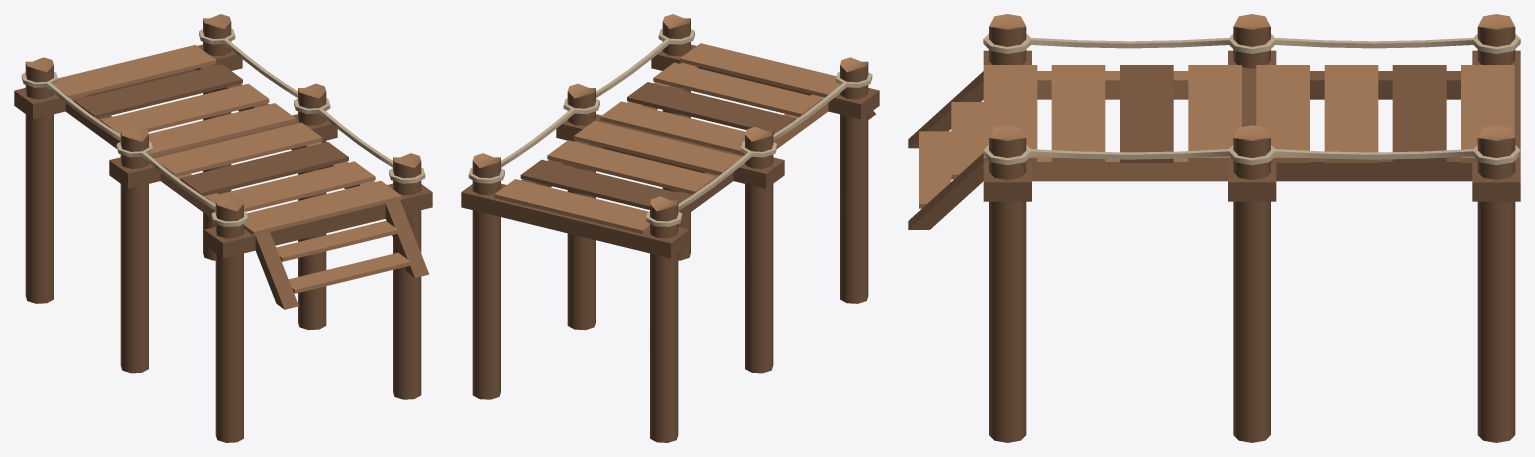
File: Pier_Level_01.fbx
3 views of the same model, side by side, from view 1: azimuth 30°, elevation 25°; view 2: azimuth 150°, elevation 25°; view 3: azimuth 270°, elevation 25° (orthographic). The views are drawn at different scales.
Parts seen in each view (by area): view 1: Pier_Level_01; view 2: Pier_Level_01; view 3: Pier_Level_01.
Boxes of the visible parts, bbox=[...] form: Pier_Level_01: bbox=[14, 14, 432, 442]; Pier_Level_01: bbox=[461, 14, 879, 442]; Pier_Level_01: bbox=[908, 14, 1520, 442].
Size of the model in its own units: 5.8 by 6.2 by 11.4.
